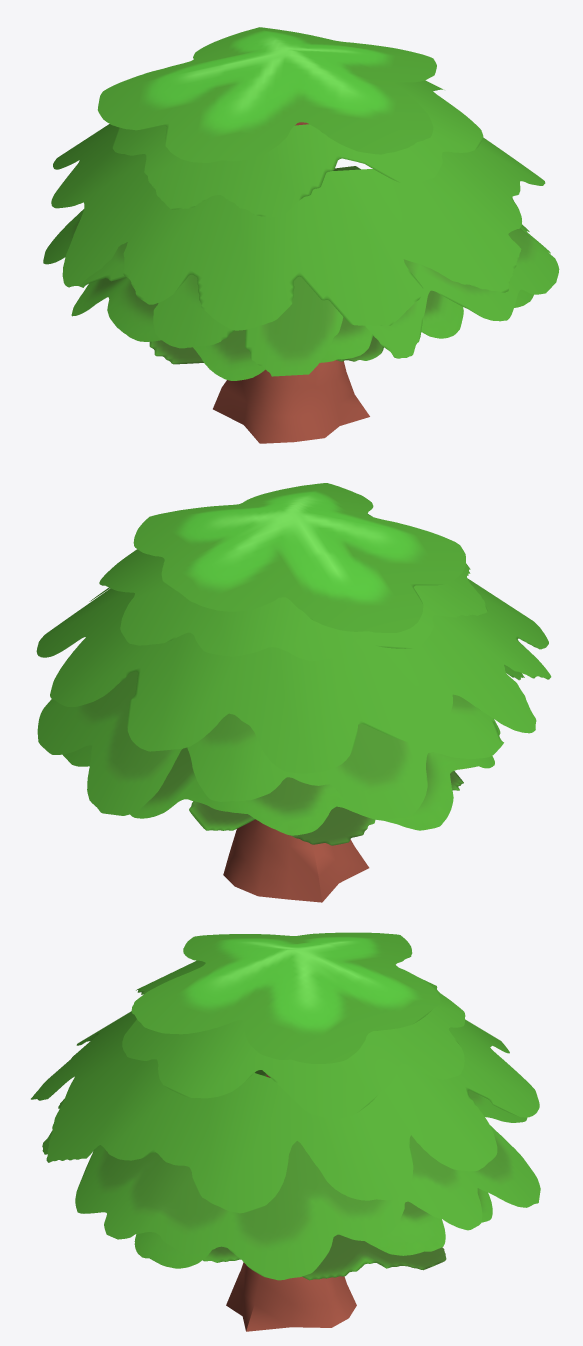
The model's file is bush.glb.
3 renders of one model, top to bottom at view 1: azimuth 30°, elevation 25°; view 2: azimuth 150°, elevation 25°; view 3: azimuth 270°, elevation 25°, orthographic. The views are drawn at different scales.
Parts seen in each view (by area): view 1: bushtop, bushstem; view 2: bushtop, bushstem; view 3: bushtop, bushstem.
Part boxes in pixels (box(x1,y1,x2,y2)): bushtop: box(43, 27, 559, 380); bushstem: box(213, 122, 369, 443); bushtop: box(36, 483, 551, 845); bushstem: box(223, 819, 369, 902); bushtop: box(31, 932, 540, 1280); bushstem: box(226, 1074, 356, 1331).
Size of the model in its own units: 1.93 by 1.41 by 2.
Materials: 2 (2 with a texture image).
